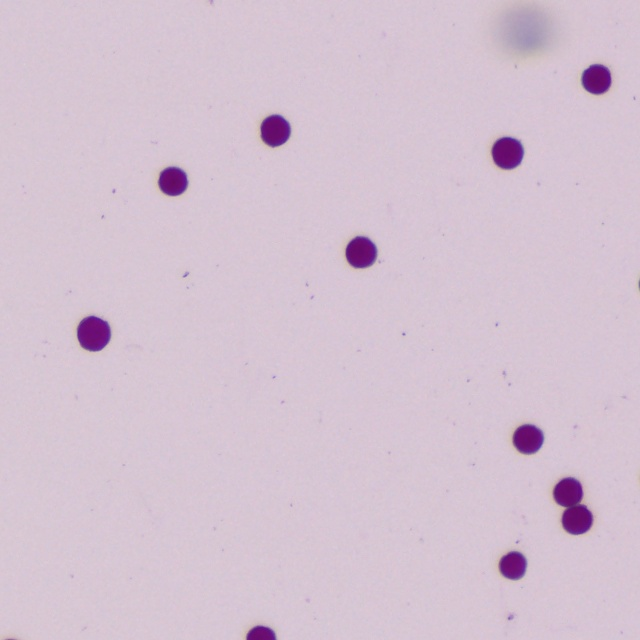viable: (78, 317, 110, 351), (493, 138, 523, 169), (261, 115, 290, 146), (347, 237, 376, 267), (159, 167, 187, 196), (514, 425, 543, 453), (583, 65, 611, 94), (563, 506, 592, 534), (554, 478, 582, 506), (500, 552, 526, 579), (247, 626, 275, 639)
